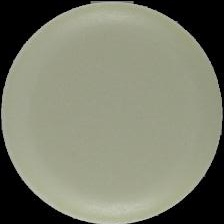0378-1005: (0, 0, 224, 224)
